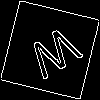W: (25, 25, 89, 89)
